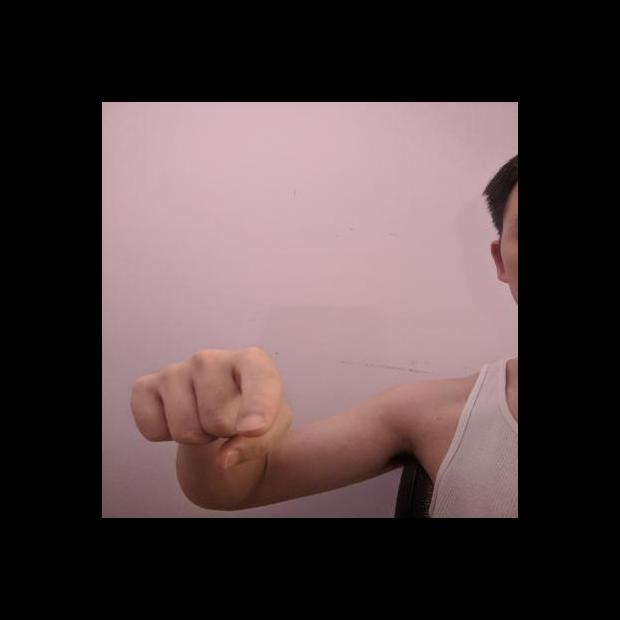Y: (126, 344, 298, 473)
